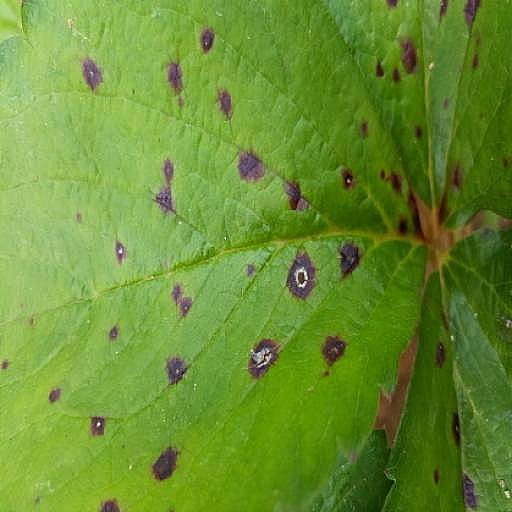Leaf Spot: (314, 281, 511, 511), (379, 0, 511, 284)
